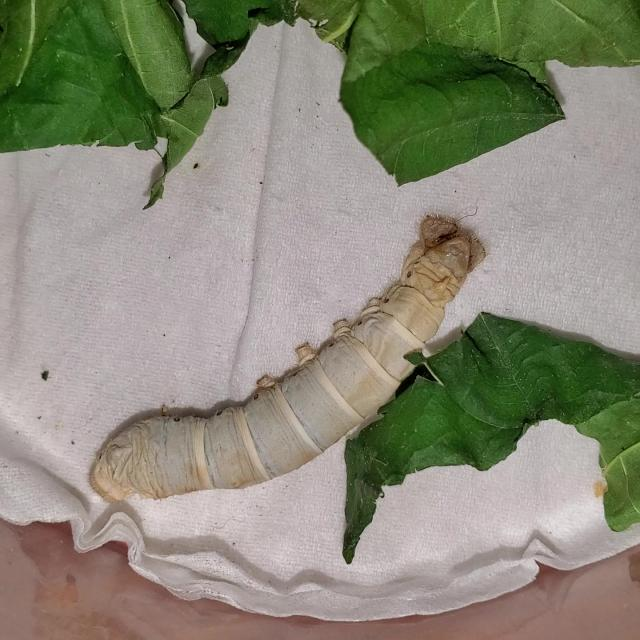Grasserie: (64, 181, 523, 540)
